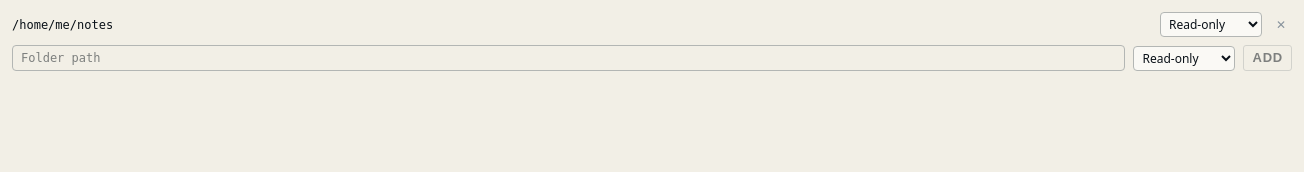
Test: FolderDraftList › refuses a relative path and a folder already listed
Type "relative" into the field named "Folder path to add".
click(569, 58); type("relative")  # box [12, 45, 1126, 71]
Then press Enter
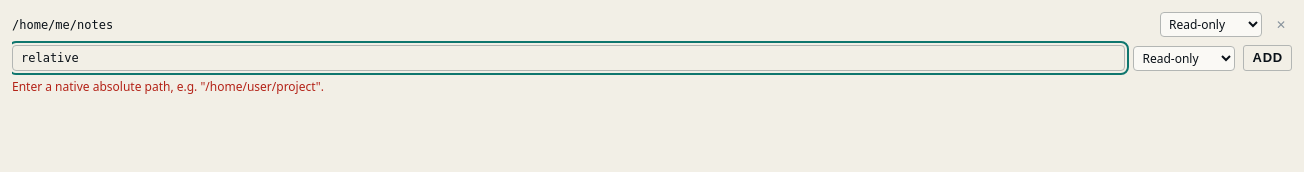
Check: the message "Enter a native absolute path, e.g. \"/home/user/project\"." is shown, box [12, 78, 324, 95]
Replace the text in the field named "Folder path to add" with "/home/me/notes" at (569,58), box [12, 45, 1126, 71]
Then press Enter
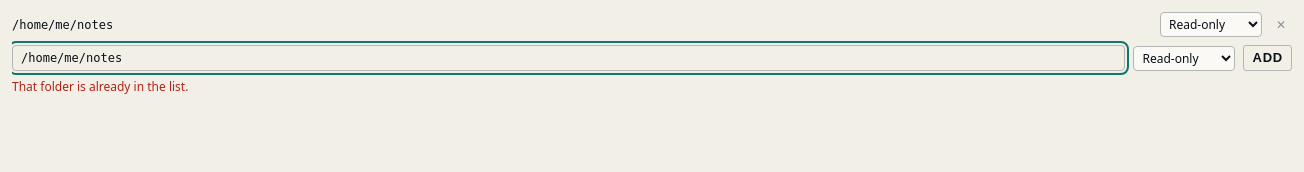
Check: the message reads "That folder is already in the list.", box [12, 78, 188, 95]
